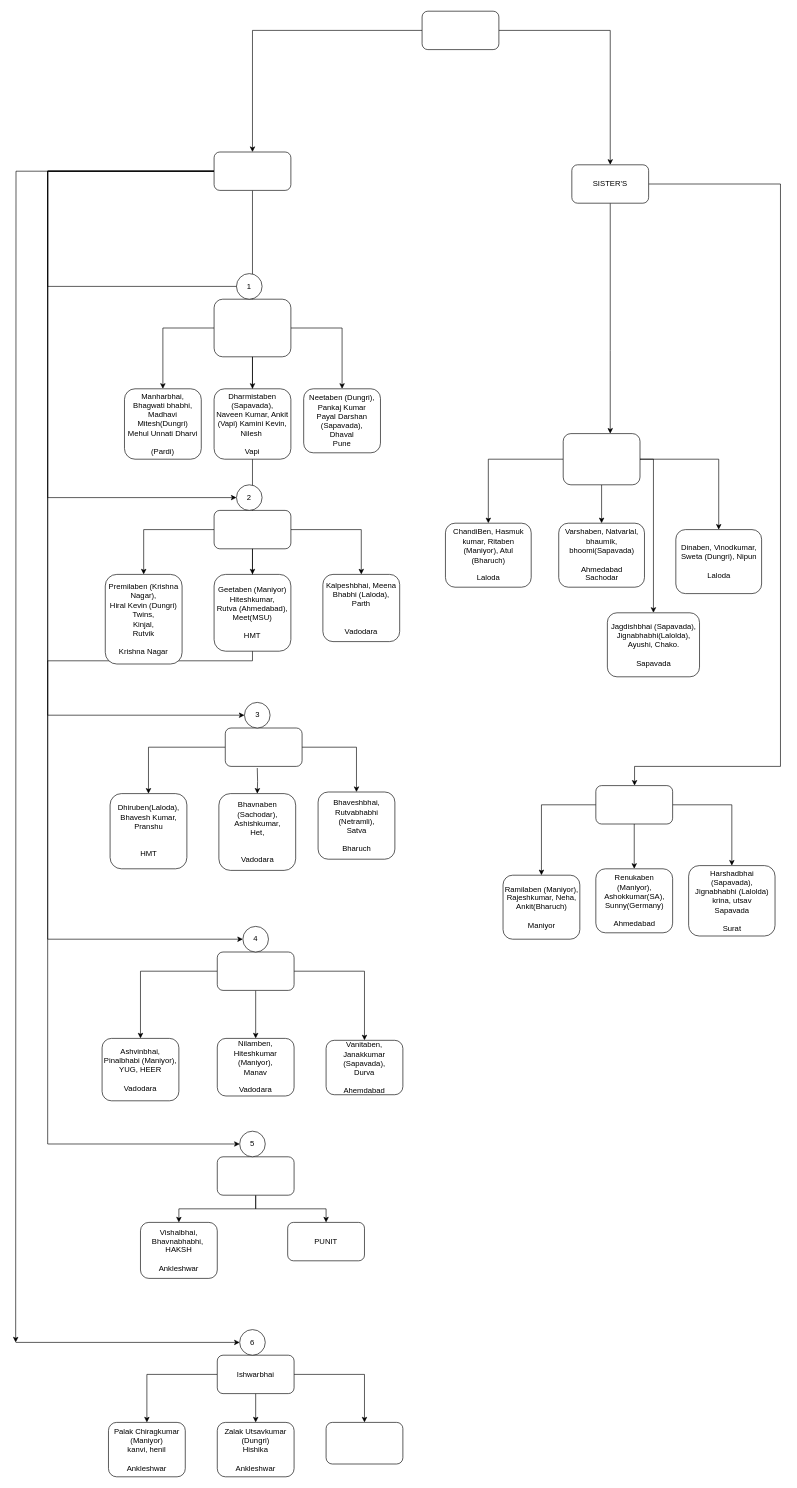
This 797x1488 diagram has some shape labels left out. Here are the shapes that lost their labels. From the top down, the centre of each, then its label:
[460,30]: MAVJIBHAI
[252,170]: BROTHER'S
[252,328]: Naranbhai, Chanchad
[601,459]: Hira Foi, Mohan Fuwa Sapavada
[252,529]: Ramanbhai, Heeraben
[263,746]: Becharbhai, Jasodaben(Sapavada)
[634,804]: Dahi Foi, Khema Fuwa
[255,970]: Amratbhai, Hansaben
[255,1175]: Jayantibhai, Urmilaben
[364,1443]: Sanketbhai, Neejalbhabhi, Vadodara
